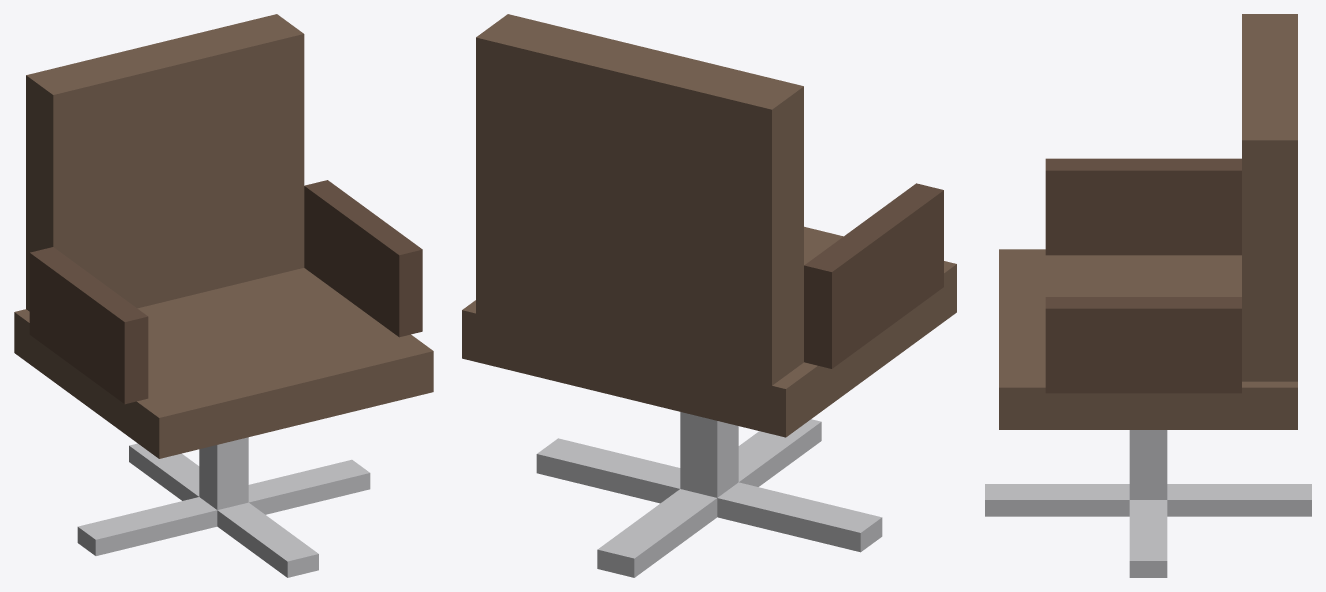
File: chair_executive.glb
The picture shows the model from 3 angles, left to right: view 1: azimuth 30°, elevation 25°; view 2: azimuth 150°, elevation 25°; view 3: azimuth 270°, elevation 25°; orthographic projection. The views are drawn at different scales.
Bounding box in the file's own units: 0.76 × 1.02 × 0.7.
